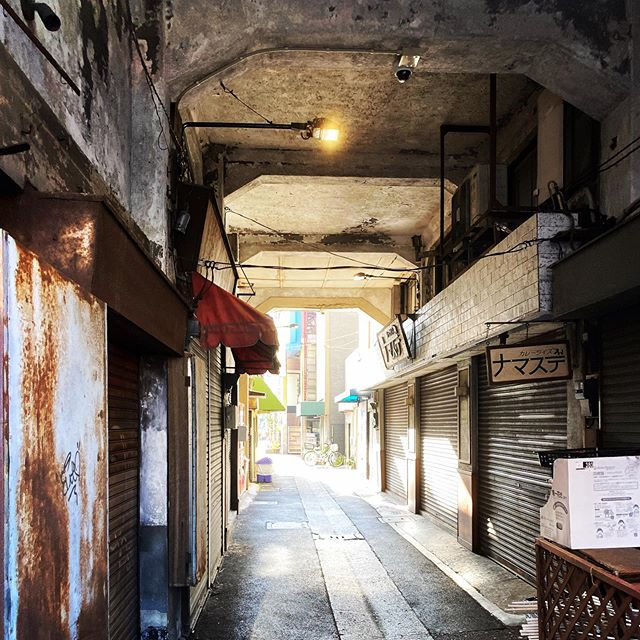building: (376, 1, 640, 611), (1, 153, 251, 640)
